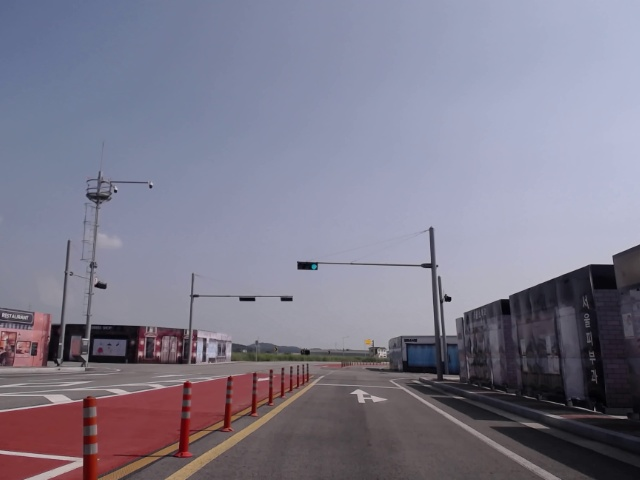green_3: (296, 261, 319, 271)
